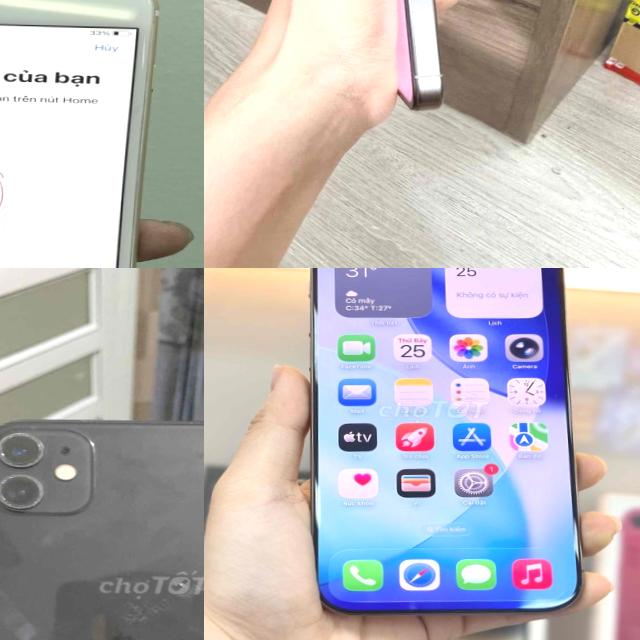scratch: (98, 553, 204, 640), (0, 427, 69, 532), (0, 585, 54, 640)
